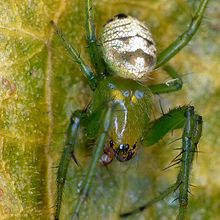spider: (43, 1, 216, 220)
